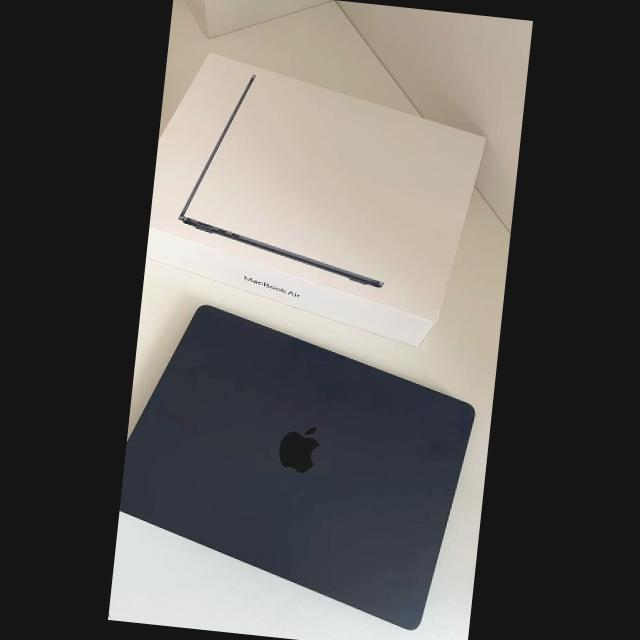laptop: (152, 305, 478, 622)
